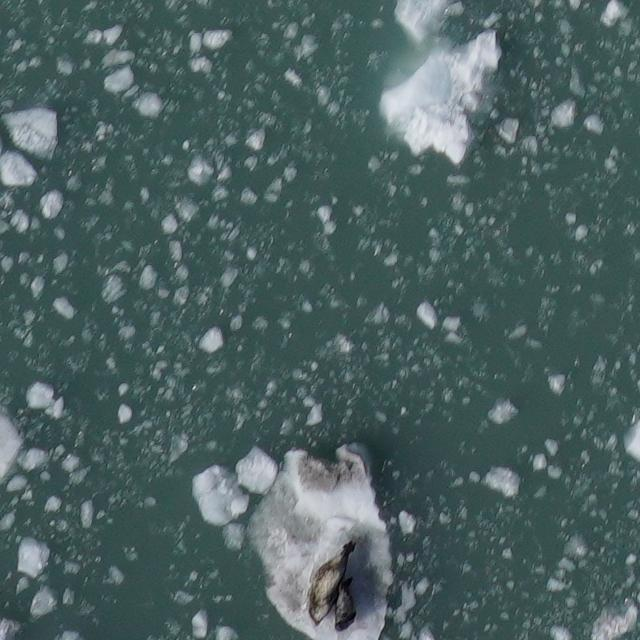seal: (303, 535, 361, 632), (330, 572, 360, 632)
